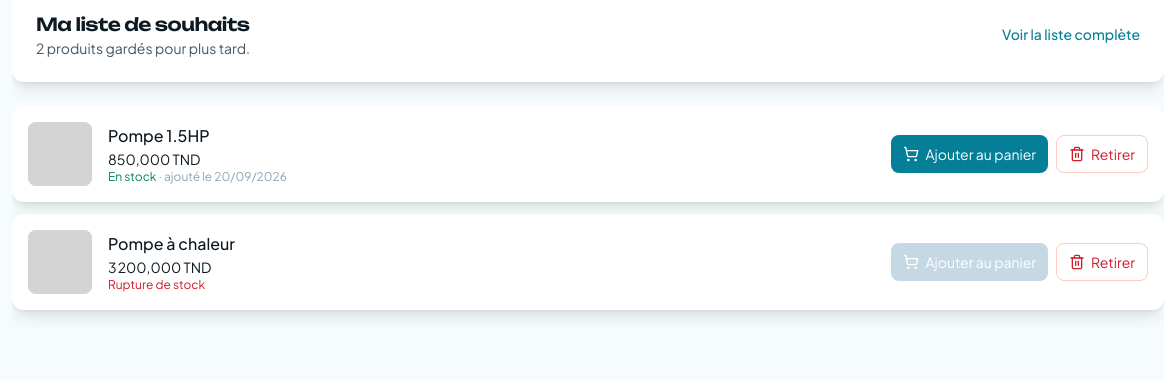
Scenario: account wishlist tab › lists the saved products and adds one to the cart
The image size is (1164, 380).
Expected: the text "2 produits gardés pour plus tard." is shown, [36, 38, 250, 58]
Click the button "Ajouter au panier" in the row of "20/09/2026" at [970, 154], box [891, 135, 1048, 173]
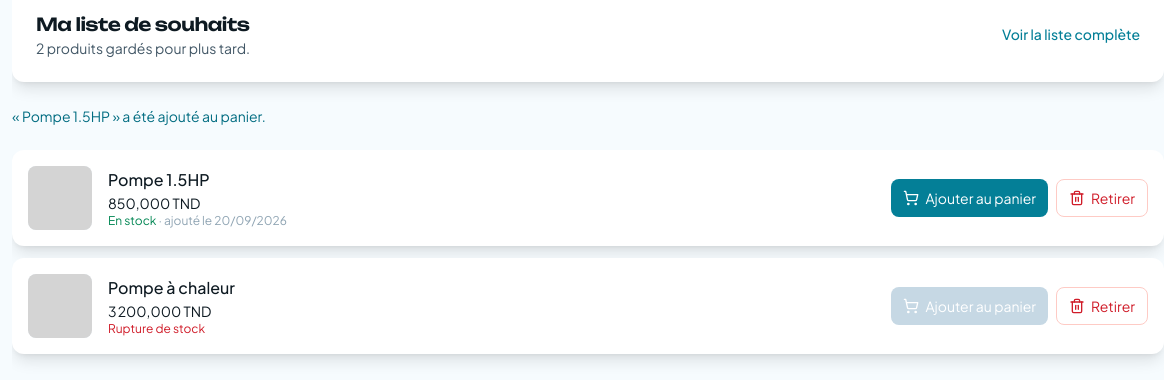
Expected: the button "Ajouter au panier" in the row of "Pompe à chaleur" is disabled, [891, 287, 1048, 325]
Expected: the text "« Pompe 1.5HP » a été ajouté au panier." is shown, [12, 107, 266, 125]
